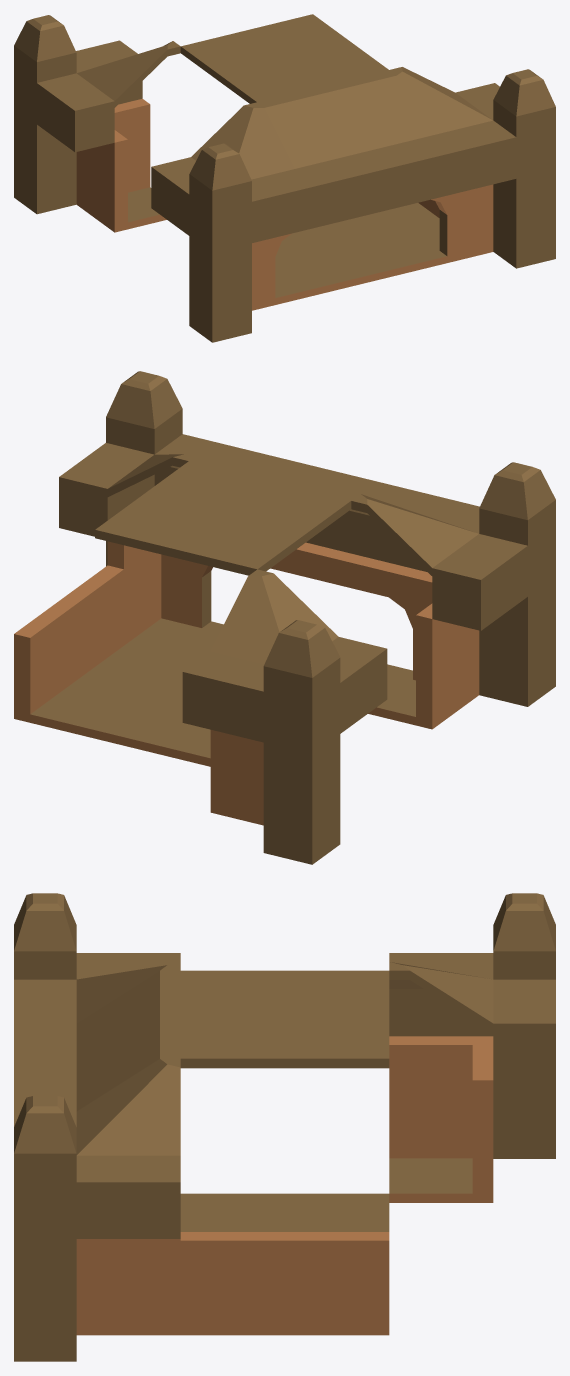
The model's file is Buildings_TownHall.fbx.
The picture shows the model from 3 angles, top to bottom: view 1: azimuth 30°, elevation 25°; view 2: azimuth 150°, elevation 25°; view 3: azimuth 270°, elevation 25°; orthographic projection. The views are drawn at different scales.
Parts seen in each view (by area): view 1: TownHall_Top_Side, TownHall_Top_Corner_Door, TownHall_Top_Corner, TownHall_Top_Corner_Door_Mirrored, TownHall_Top_Full, TownHall_Bot_Corner, TownHall_Bot_Corner_Door_Mirrored, TownHall_Bot_Corner_Door, TownHall_Bot_Side_Door, TownHall_Bot_Full, TownHall_Bot_Side; view 2: TownHall_Top_Corner, TownHall_Top_Corner_Door, TownHall_Top_Full, TownHall_Bot_Side, TownHall_Top_Corner_Door_Mirrored, TownHall_Bot_Corner_Door, TownHall_Bot_Corner, TownHall_Top_Side, TownHall_Bot_Corner_Door_Mirrored, TownHall_Bot_Full; view 3: TownHall_Top_Corner_Door_Mirrored, TownHall_Top_Corner, TownHall_Bot_Side, TownHall_Top_Full, TownHall_Bot_Corner, TownHall_Bot_Corner_Door_Mirrored, TownHall_Top_Side, TownHall_Top_Corner_Door, TownHall_Bot_Full.
Boxes of the visible parts, left/top/right/bottom form: TownHall_Top_Side: left=257, top=70, right=450, bottom=226; TownHall_Top_Corner_Door: left=151, top=102, right=317, bottom=273; TownHall_Top_Corner: left=14, top=15, right=180, bottom=163; TownHall_Top_Corner_Door_Mirrored: left=389, top=67, right=555, bottom=199; TownHall_Top_Full: left=180, top=14, right=388, bottom=103; TownHall_Bot_Corner: left=14, top=125, right=166, bottom=232; TownHall_Bot_Corner_Door_Mirrored: left=389, top=184, right=555, bottom=268; TownHall_Bot_Corner_Door: left=189, top=233, right=295, bottom=342; TownHall_Bot_Side_Door: left=275, top=233, right=427, bottom=299; TownHall_Bot_Full: left=275, top=215, right=388, bottom=260; TownHall_Bot_Side: left=365, top=199, right=439, bottom=232; TownHall_Top_Corner: left=182, top=569, right=387, bottom=779; TownHall_Top_Corner_Door: left=351, top=462, right=555, bottom=644; TownHall_Top_Full: left=95, top=461, right=351, bottom=575; TownHall_Bot_Side: left=14, top=565, right=188, bottom=738; TownHall_Top_Corner_Door_Mirrored: left=59, top=371, right=263, bottom=569; TownHall_Bot_Corner_Door: left=368, top=597, right=555, bottom=729; TownHall_Bot_Corner: left=210, top=730, right=340, bottom=864; TownHall_Top_Side: left=189, top=454, right=425, bottom=597; TownHall_Bot_Corner_Door_Mirrored: left=106, top=541, right=223, bottom=661; TownHall_Bot_Full: left=95, top=661, right=210, bottom=766; TownHall_Top_Corner_Door_Mirrored: left=14, top=1058, right=180, bottom=1267; TownHall_Top_Corner: left=389, top=893, right=555, bottom=1108; TownHall_Bot_Side: left=180, top=1232, right=389, bottom=1335; TownHall_Top_Full: left=180, top=970, right=389, bottom=1068; TownHall_Bot_Corner: left=389, top=1073, right=555, bottom=1202; TownHall_Bot_Corner_Door_Mirrored: left=14, top=1240, right=180, bottom=1361; TownHall_Top_Side: left=14, top=970, right=180, bottom=1111; TownHall_Top_Corner_Door: left=14, top=893, right=180, bottom=1023; TownHall_Bot_Full: left=180, top=1193, right=389, bottom=1231.
Bounding box in the file's own units: 520 × 262 × 520.
